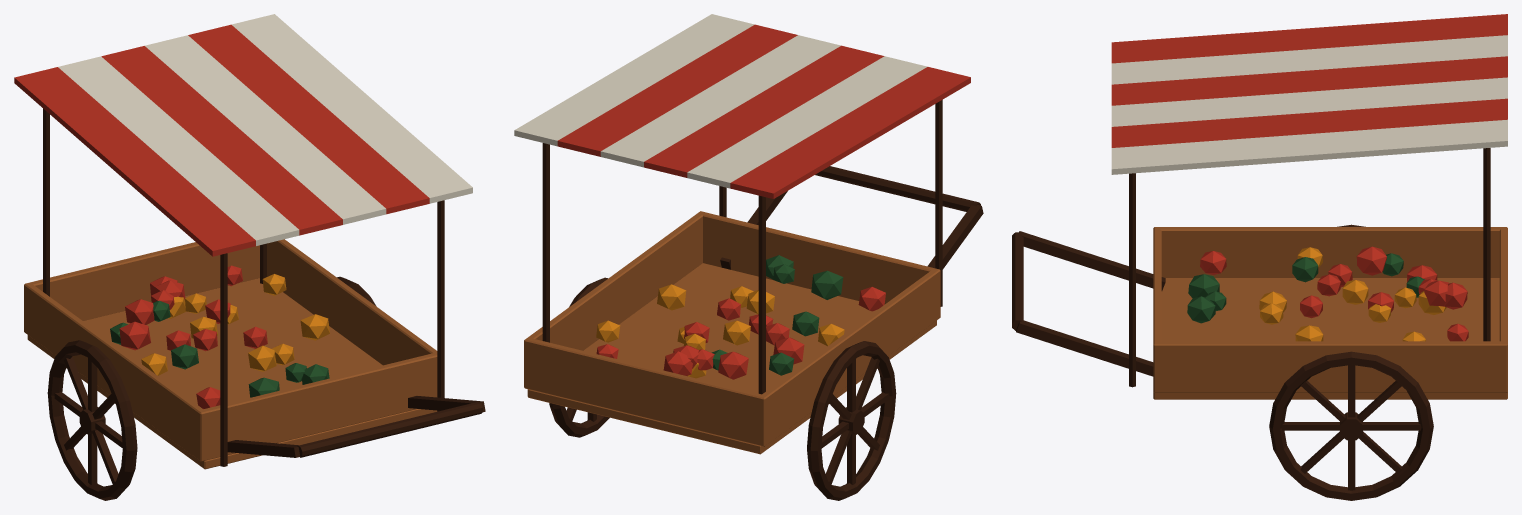
File: INTERIOR_10_MarketCart.obj
The picture shows the model from 3 angles, left to right: view 1: azimuth 30°, elevation 25°; view 2: azimuth 150°, elevation 25°; view 3: azimuth 270°, elevation 25°; orthographic projection.
Visible parts, largest first — view 1: INTERIOR_10_MarketCart_Awning, INTERIOR_10_MarketCart_Cart_Bed, INTERIOR_10_MarketCart_Produce, INTERIOR_10_MarketCart_Wheel_L, INTERIOR_10_MarketCart_Awning_Poles, INTERIOR_10_MarketCart_Handles; view 2: INTERIOR_10_MarketCart_Cart_Bed, INTERIOR_10_MarketCart_Awning, INTERIOR_10_MarketCart_Produce, INTERIOR_10_MarketCart_Wheel_L, INTERIOR_10_MarketCart_Awning_Poles, INTERIOR_10_MarketCart_Handles, INTERIOR_10_MarketCart_Wheel_R; view 3: INTERIOR_10_MarketCart_Awning, INTERIOR_10_MarketCart_Cart_Bed, INTERIOR_10_MarketCart_Wheel_R, INTERIOR_10_MarketCart_Produce, INTERIOR_10_MarketCart_Handles, INTERIOR_10_MarketCart_Awning_Poles.
Part boxes in pixels (bbox=[...]): INTERIOR_10_MarketCart_Awning: bbox=[14, 14, 472, 256]; INTERIOR_10_MarketCart_Cart_Bed: bbox=[24, 239, 437, 469]; INTERIOR_10_MarketCart_Produce: bbox=[110, 265, 329, 409]; INTERIOR_10_MarketCart_Wheel_L: bbox=[47, 340, 137, 500]; INTERIOR_10_MarketCart_Awning_Poles: bbox=[43, 108, 444, 466]; INTERIOR_10_MarketCart_Handles: bbox=[227, 396, 485, 457]; INTERIOR_10_MarketCart_Cart_Bed: bbox=[524, 211, 940, 454]; INTERIOR_10_MarketCart_Awning: bbox=[514, 14, 970, 198]; INTERIOR_10_MarketCart_Produce: bbox=[596, 255, 885, 379]; INTERIOR_10_MarketCart_Wheel_L: bbox=[807, 341, 896, 500]; INTERIOR_10_MarketCart_Awning_Poles: bbox=[542, 100, 942, 394]; INTERIOR_10_MarketCart_Handles: bbox=[720, 166, 983, 269]; INTERIOR_10_MarketCart_Wheel_R: bbox=[549, 277, 609, 437]; INTERIOR_10_MarketCart_Awning: bbox=[1111, 14, 1507, 174]; INTERIOR_10_MarketCart_Cart_Bed: bbox=[1153, 227, 1507, 399]; INTERIOR_10_MarketCart_Wheel_R: bbox=[1269, 351, 1433, 500]; INTERIOR_10_MarketCart_Produce: bbox=[1187, 246, 1468, 341]; INTERIOR_10_MarketCart_Handles: bbox=[1012, 231, 1165, 376]; INTERIOR_10_MarketCart_Awning_Poles: bbox=[1129, 148, 1490, 387].
Bounding box in the file's own units: 1.52 × 1.9 × 2.38.
